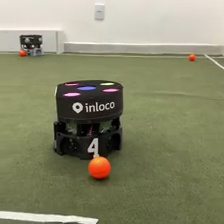ball: (86, 153, 112, 180), (18, 49, 26, 57), (188, 52, 196, 60)
goal: (1, 28, 66, 55)
robot: (51, 77, 127, 162), (17, 32, 44, 58)
